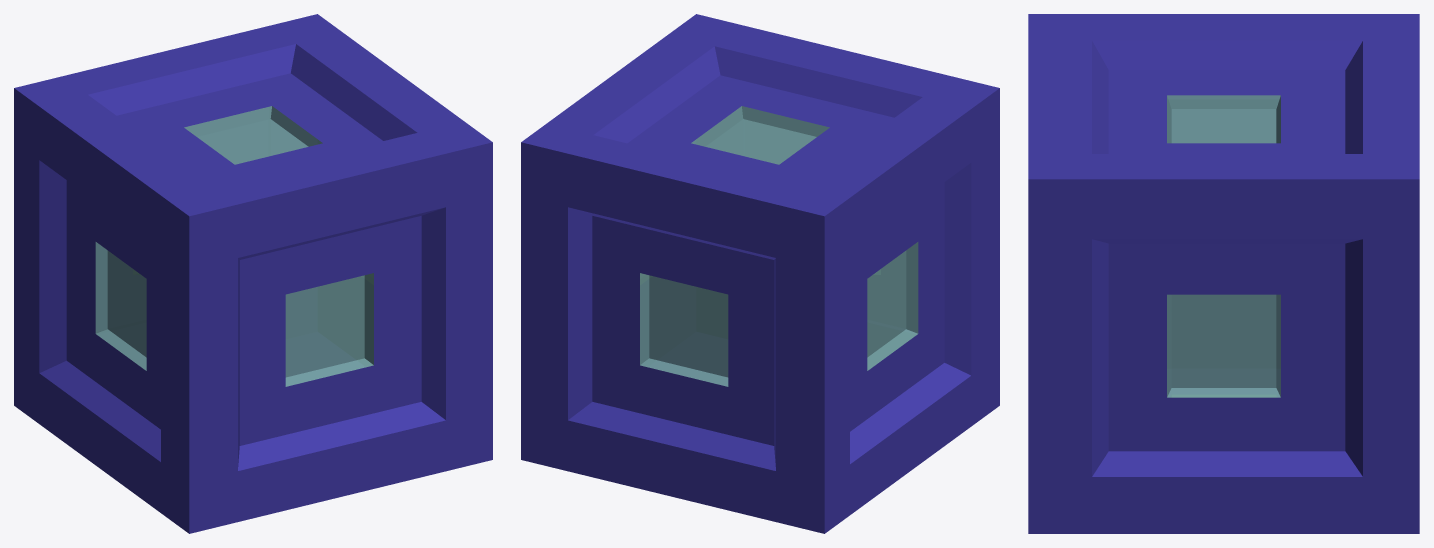
3 renders of one model, left to right at view 1: azimuth 30°, elevation 25°; view 2: azimuth 150°, elevation 25°; view 3: azimuth 270°, elevation 25°, orthographic. The views are drawn at different scales.
Parts seen in each view (by area): view 1: pCube1; view 2: pCube1; view 3: pCube1.
Part boxes in pixels (x1,y1,x2,y2): pCube1: [14, 14, 492, 533]; pCube1: [521, 14, 999, 533]; pCube1: [1028, 14, 1419, 533].
Bounding box in the file's own units: 3.09 × 3.09 × 3.09.
